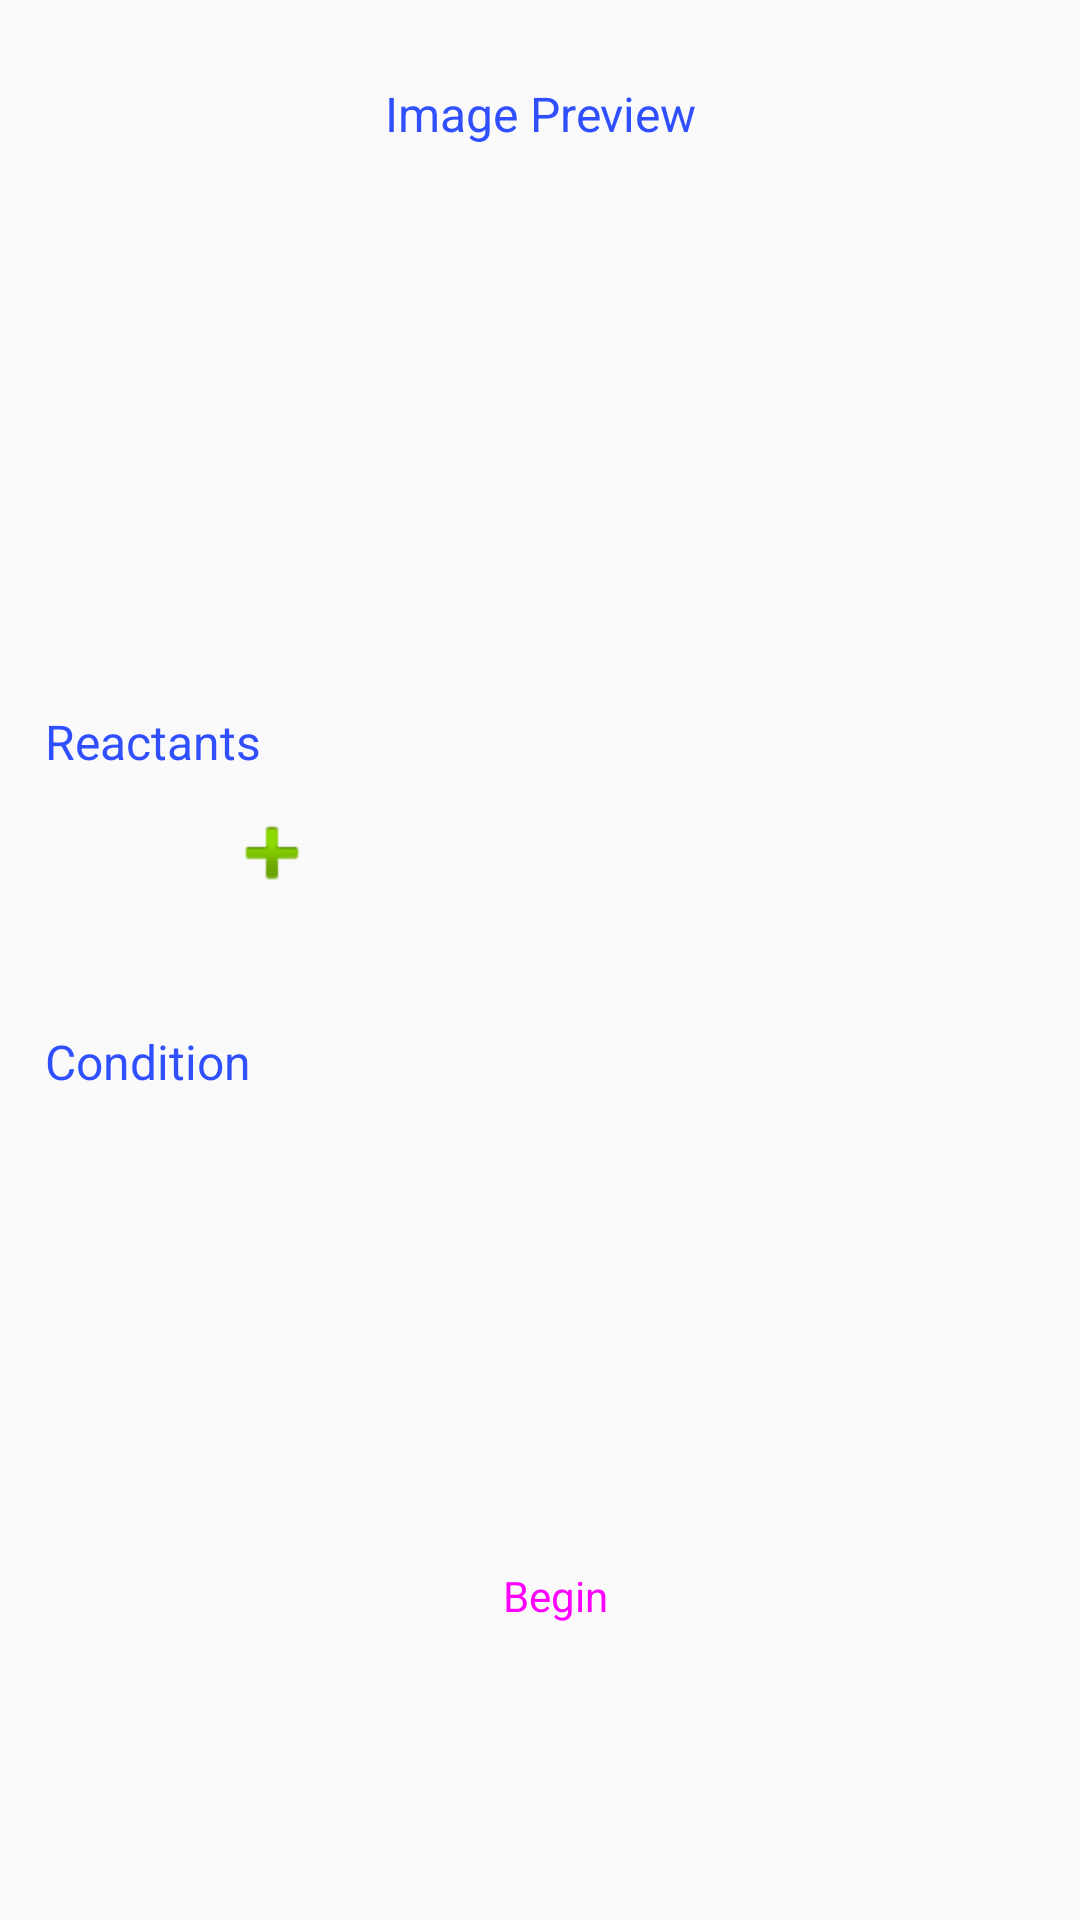

Screen size 1080w x 1920h. Icon name, then its center in pixels as point (x, y):
add: point (272, 853)
